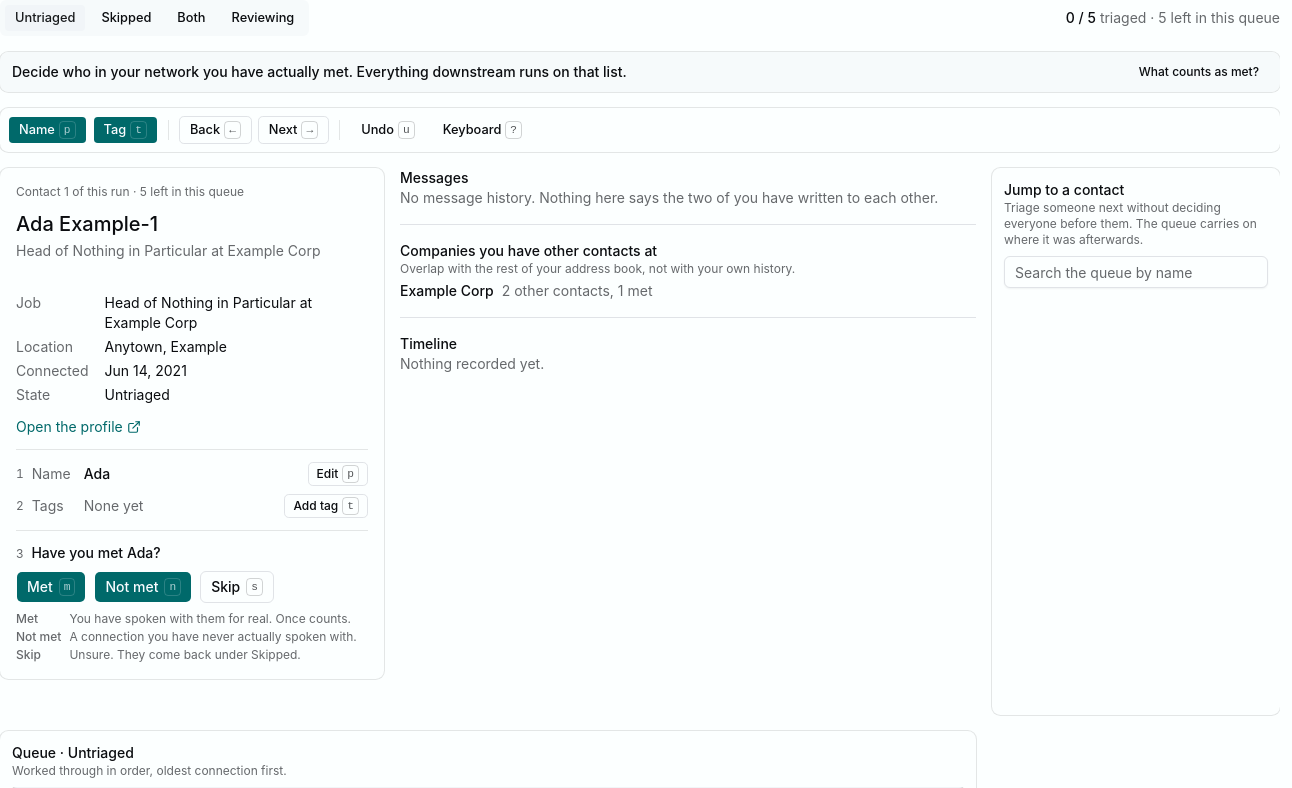
the counters while a decision is still in flight › Both: s keeps the contact in the queue, so only the triage count moves
Click the button "Both". click: (191, 18)
box: 166,4 -> 216,32
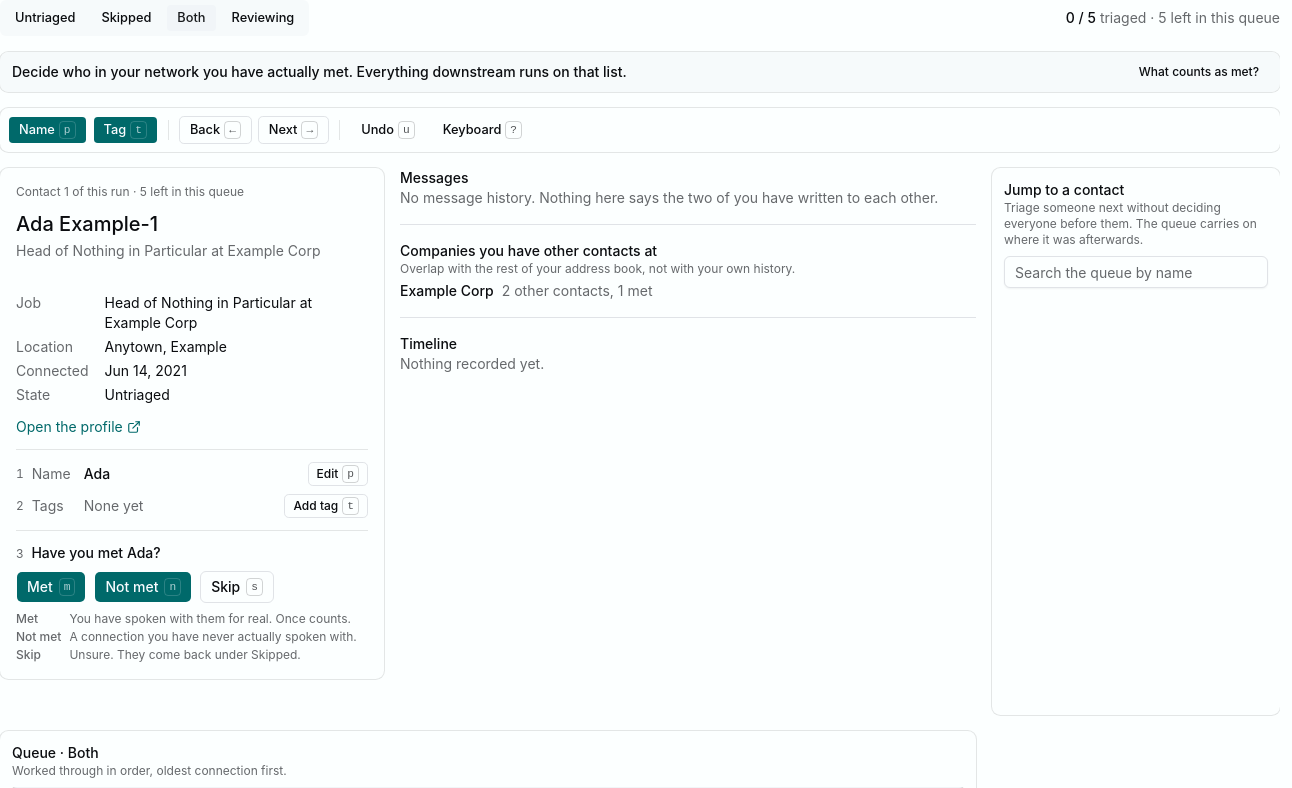
Press s
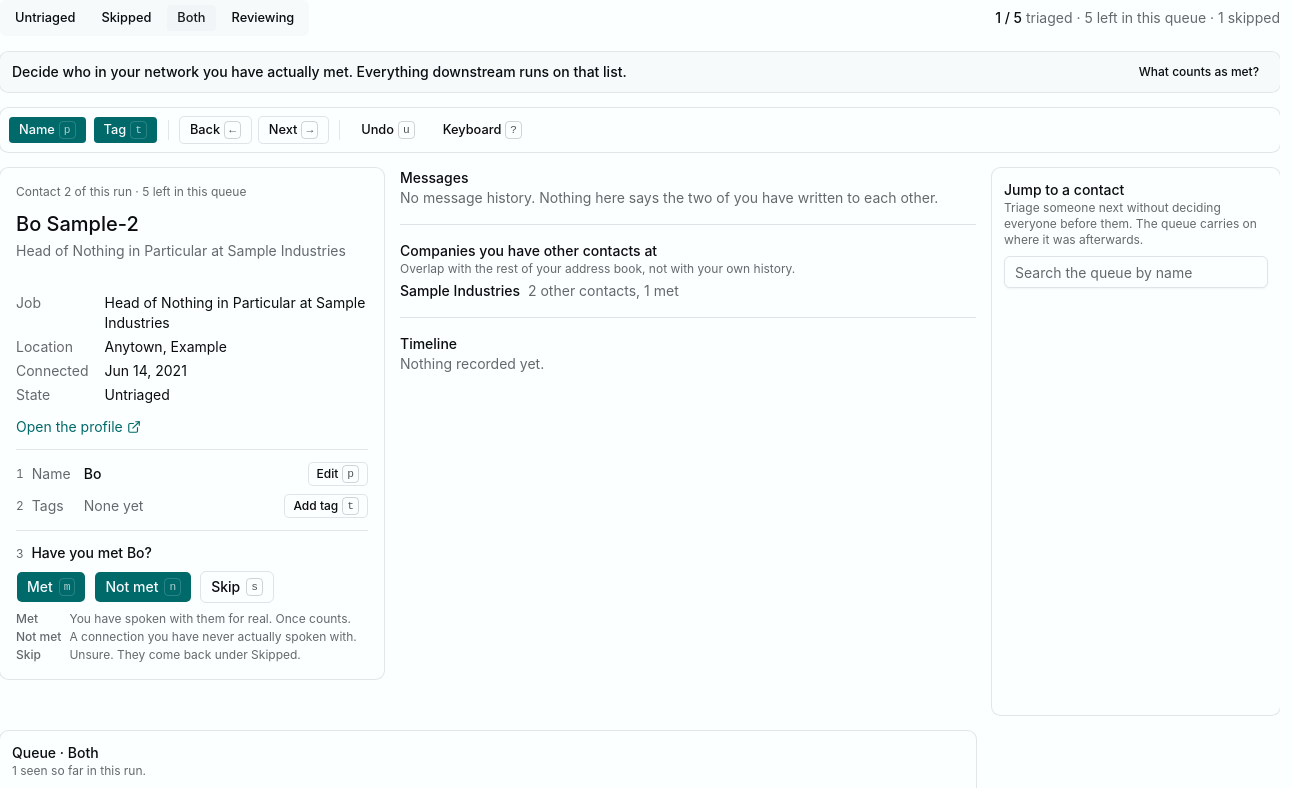
Expected: the element with test id "triage-progress" shows "5 left in this queue", 995,8 -> 1280,28
Expected: the element with test id "triage-progress" shows "1 / 5", 995,8 -> 1280,28
